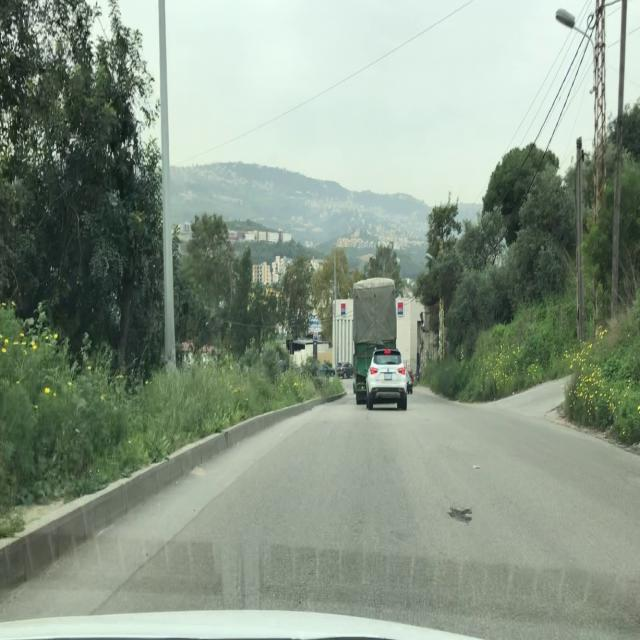pothole: (447, 505, 474, 526)
